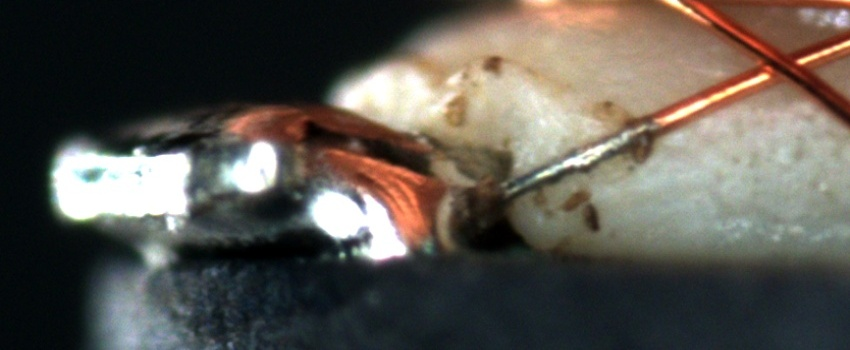CL: (733, 35, 825, 93)
TS: (496, 119, 654, 198)
